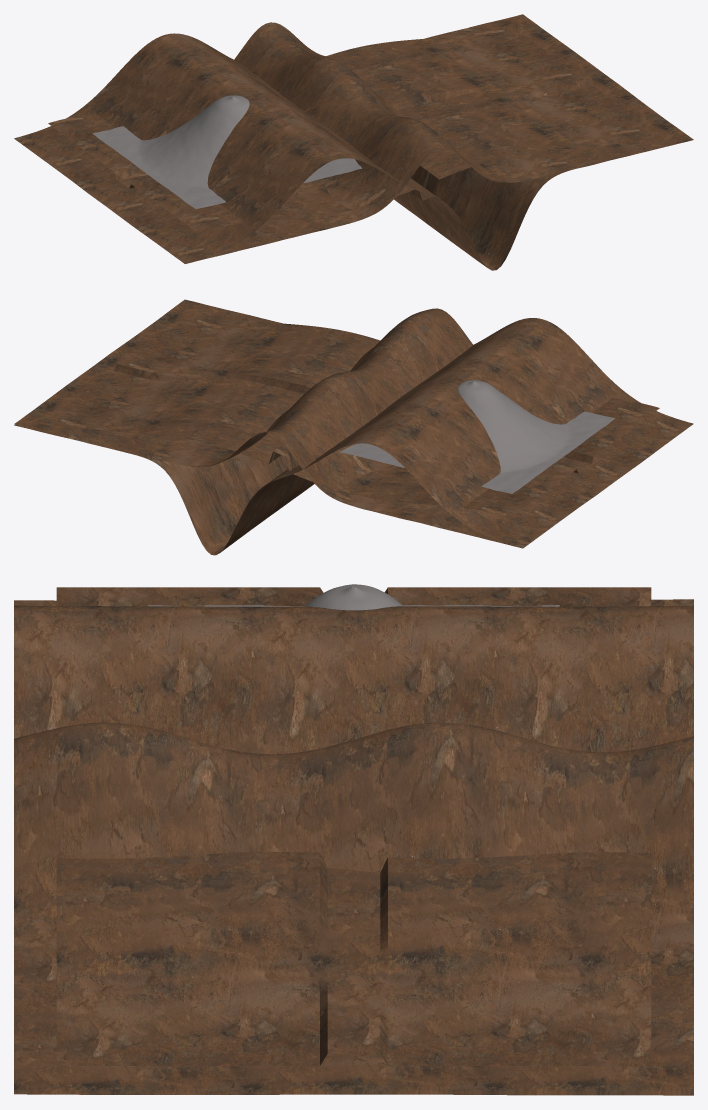
Rendered from plate-boundaries.glb.
3 renders of one model, top to bottom at view 1: azimuth 30°, elevation 25°; view 2: azimuth 150°, elevation 25°; view 3: azimuth 270°, elevation 25°, orthographic. The views are drawn at different scales.
Visible parts, largest first — view 1: Plate_Trench, Plate_Transform, Plate_Ridge, Plate_Arc; view 2: Plate_Trench, Plate_Transform, Plate_Ridge, Plate_Arc; view 3: Plate_Transform, Plate_Ridge, Plate_Trench, Plate_Arc.
Part boxes in pixels (box(x1,y1,x2,y2)): Plate_Trench: box(14, 33, 691, 270); Plate_Transform: box(48, 25, 659, 232); Plate_Ridge: box(15, 14, 693, 263); Plate_Arc: box(92, 95, 361, 208); Plate_Trench: box(14, 309, 693, 555); Plate_Transform: box(48, 310, 659, 517); Plate_Ridge: box(14, 299, 687, 548); Plate_Arc: box(339, 380, 614, 493); Plate_Transform: box(56, 587, 651, 1065); Plate_Ridge: box(14, 600, 693, 1094); Plate_Trench: box(14, 599, 693, 1095); Plate_Arc: box(148, 584, 559, 610).
Size of the model in its own units: 5.5 by 1.59 by 3.2.
Materials: 3 (2 with a texture image).
